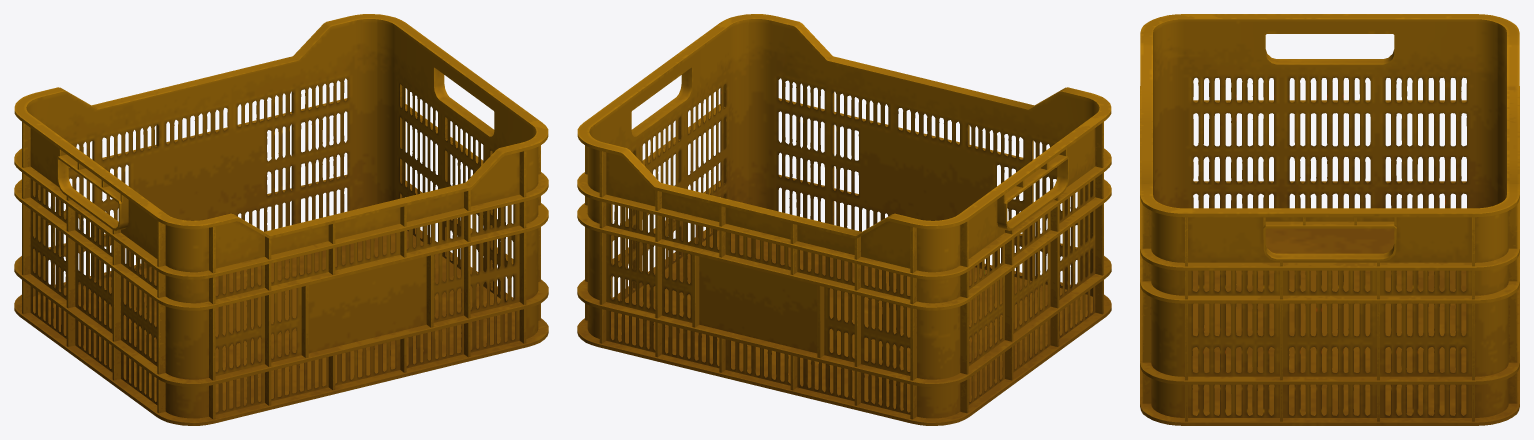
The model's file is goods_crate.glb.
3 views of the same model, side by side, from view 1: azimuth 30°, elevation 25°; view 2: azimuth 150°, elevation 25°; view 3: azimuth 270°, elevation 25° (orthographic). The views are drawn at different scales.
Visible parts, largest first — view 1: goods_crate; view 2: goods_crate; view 3: goods_crate.
Boxes of the visible parts, left/top/right/bottom form: goods_crate: left=14, top=14, right=548, bottom=425; goods_crate: left=577, top=14, right=1111, bottom=425; goods_crate: left=1140, top=14, right=1519, bottom=425.
Bounding box in the file's own units: 0.5055 × 0.2541 × 0.4055.
1 material, 1 textured.
